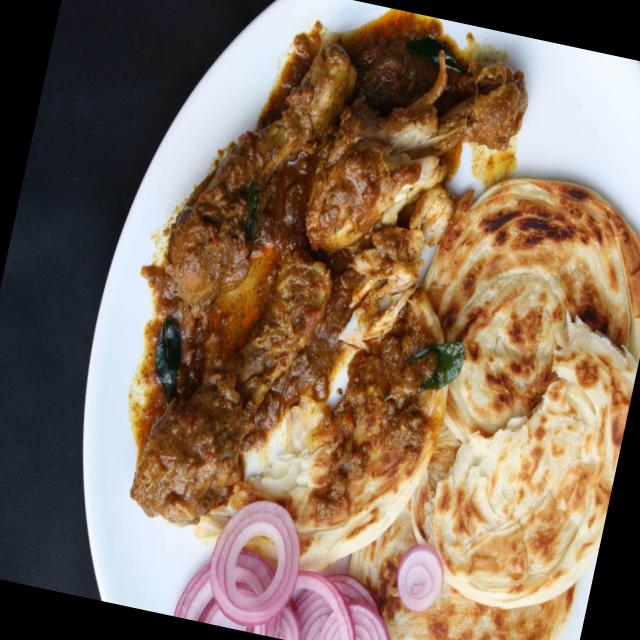chicken: (120, 6, 453, 536)
roti: (379, 170, 640, 640)
